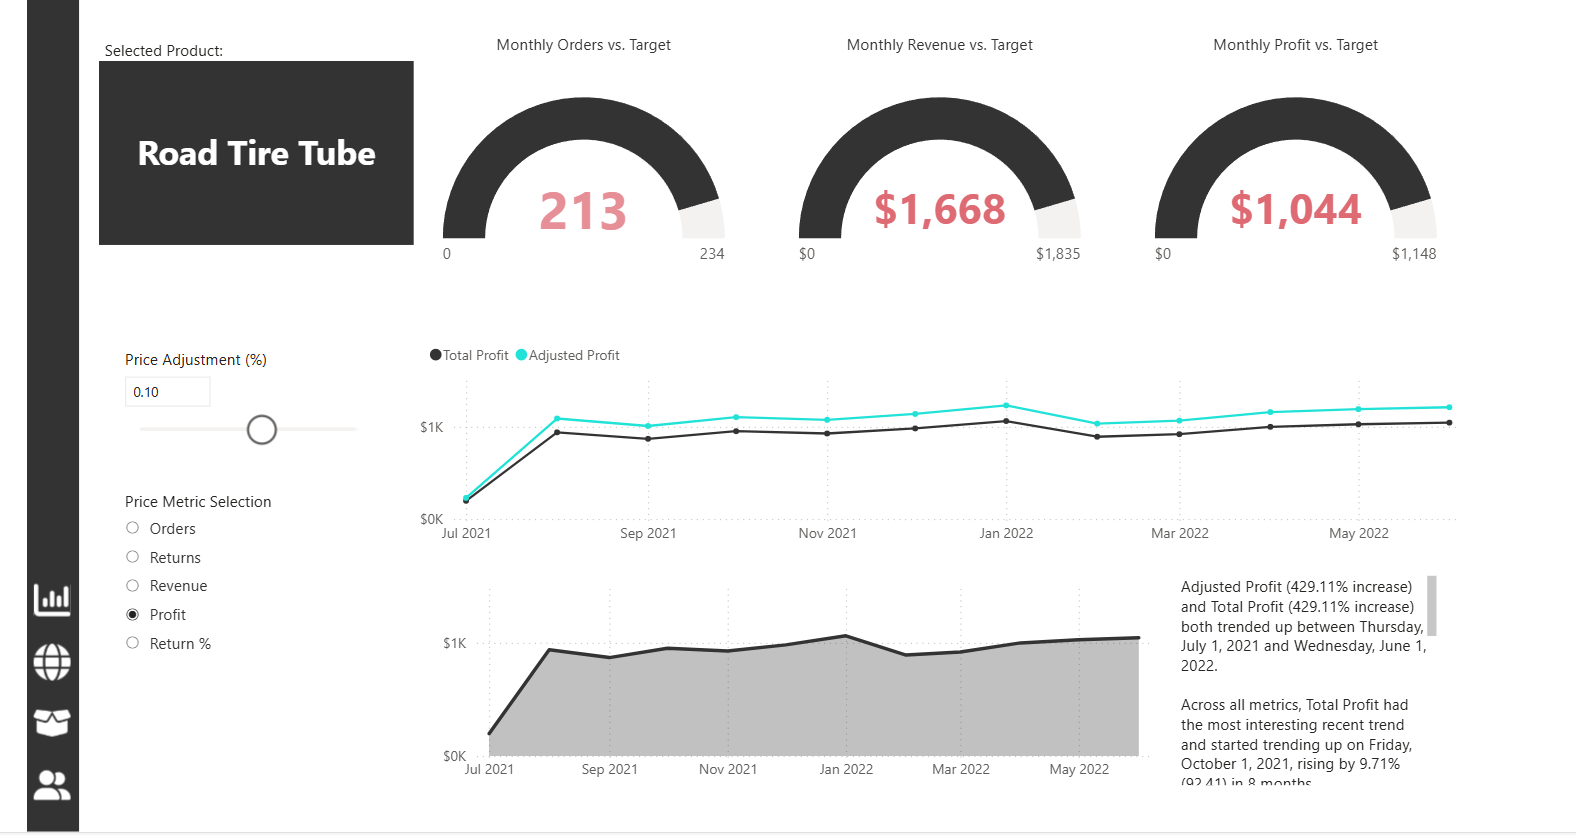

What the dashboard file says about the page in this screenshot:
{"tool":"powerbi","page":{"name":"Product Details","canvas":[1280,720],"ordinal":2},"visuals":[{"type":"shape","title":"Left Nav Background","box":[0,0,45.4,719.6],"z":0},{"type":"actionButton","box":[1.8,499.5,58.8,40],"z":0,"group":"g1"},{"type":"gauge","title":"Monthly Orders vs. Target","fields":{"Y":["Measure Table.Total Orders"],"MaxValue":["Measure Table.Order Target"]},"box":[354.6,30.2,253.8,241.2],"z":1000},{"type":"actionButton","box":[1.8,606.1,58.8,40],"z":1000,"group":"g1"},{"type":"gauge","title":"Monthly Revenue vs. Target","fields":{"Y":["Measure Table.Total Revenue"],"MaxValue":["Measure Table.Revenue Target"]},"box":[662.1,30.2,253.8,241.2],"z":2000},{"type":"actionButton","box":[1.8,659.4,58.8,40],"z":2000,"group":"g1"},{"type":"gauge","title":"Monthly Profit vs. Target","fields":{"Y":["Measure Table.Total Profit"],"MaxValue":["Measure Table.Profit Target"]},"box":[969.6,30.2,253.8,241.2],"z":3000},{"type":"actionButton","box":[1.8,552.8,58.8,40],"z":3000,"group":"g1"},{"type":"lineChart","title":"Trending Profit","fields":{"Category":["Calendar Lookup.Date Hierarchy.Start of Month","Calendar Lookup.Date Hierarchy.Start of Year","Calendar Lookup.Date Hierarchy.Start of Week","Calendar Lookup.Date Hierarchy.Date"],"Y":["Measure Table.Total Profit","Measure Table.Adjusted Profit"]},"box":[334.9,287.5,926,191.6],"z":4000},{"type":"areaChart","title":"Trending Returns","fields":{"Y":["Measure Table.Total Revenue"],"Category":["Calendar Lookup.Date Hierarchy.Start of Month","Calendar Lookup.Date Hierarchy.Start of Year","Calendar Lookup.Date Hierarchy.Start of Week","Calendar Lookup.Date Hierarchy.Date"]},"box":[354.6,493.3,637.6,190.7],"z":5000},{"type":"card","fields":{"Values":["Min(Product Lookup.ProductName)"]},"box":[62.5,53.4,272.1,159.2],"z":6000},{"type":"textbox","box":[62.5,30.2,150.2,33.3],"z":7000},{"type":"group","id":"g1","title":"Navigation Icons","box":[1.8,499.5,58.8,199.8],"z":8000},{"type":"slicer","fields":{"Values":["Price Adjustment (%).Price Adjustment (%)"]},"box":[71.6,297.3,235.5,155.8],"z":9000},{"type":"slicer","fields":{"Values":["Price Metric Selection.Price Metric Selection"]},"box":[71.6,420,229.3,214.9],"z":10000},{"type":"textbox","box":[992.2,493.4,231,190.7],"z":12000}]}

Visuals, with their boxes on the page's 1280x720 design canvas (x1, y1, x2, y2). These are canvas units, not pixel positions in the 1576x835 screenshot, which may show the page scaled, cropped or inside an application window:
"Left Nav Background" shape: {"x1": 0, "y1": 0, "x2": 45, "y2": 720}
actionButton: {"x1": 2, "y1": 500, "x2": 61, "y2": 540}
"Monthly Orders vs. Target" gauge: {"x1": 355, "y1": 30, "x2": 608, "y2": 271}
actionButton: {"x1": 2, "y1": 606, "x2": 61, "y2": 646}
"Monthly Revenue vs. Target" gauge: {"x1": 662, "y1": 30, "x2": 916, "y2": 271}
actionButton: {"x1": 2, "y1": 659, "x2": 61, "y2": 699}
"Monthly Profit vs. Target" gauge: {"x1": 970, "y1": 30, "x2": 1223, "y2": 271}
actionButton: {"x1": 2, "y1": 553, "x2": 61, "y2": 593}
"Trending Profit" lineChart: {"x1": 335, "y1": 288, "x2": 1261, "y2": 479}
"Trending Returns" areaChart: {"x1": 355, "y1": 493, "x2": 992, "y2": 684}
card - Min(Product Lookup.ProductName): {"x1": 62, "y1": 53, "x2": 335, "y2": 213}
textbox: {"x1": 62, "y1": 30, "x2": 213, "y2": 64}
"Navigation Icons" group: {"x1": 2, "y1": 500, "x2": 61, "y2": 699}
slicer - Price Adjustment (%).Price Adjustment (%): {"x1": 72, "y1": 297, "x2": 307, "y2": 453}
slicer - Price Metric Selection.Price Metric Selection: {"x1": 72, "y1": 420, "x2": 301, "y2": 635}
textbox: {"x1": 992, "y1": 493, "x2": 1223, "y2": 684}
